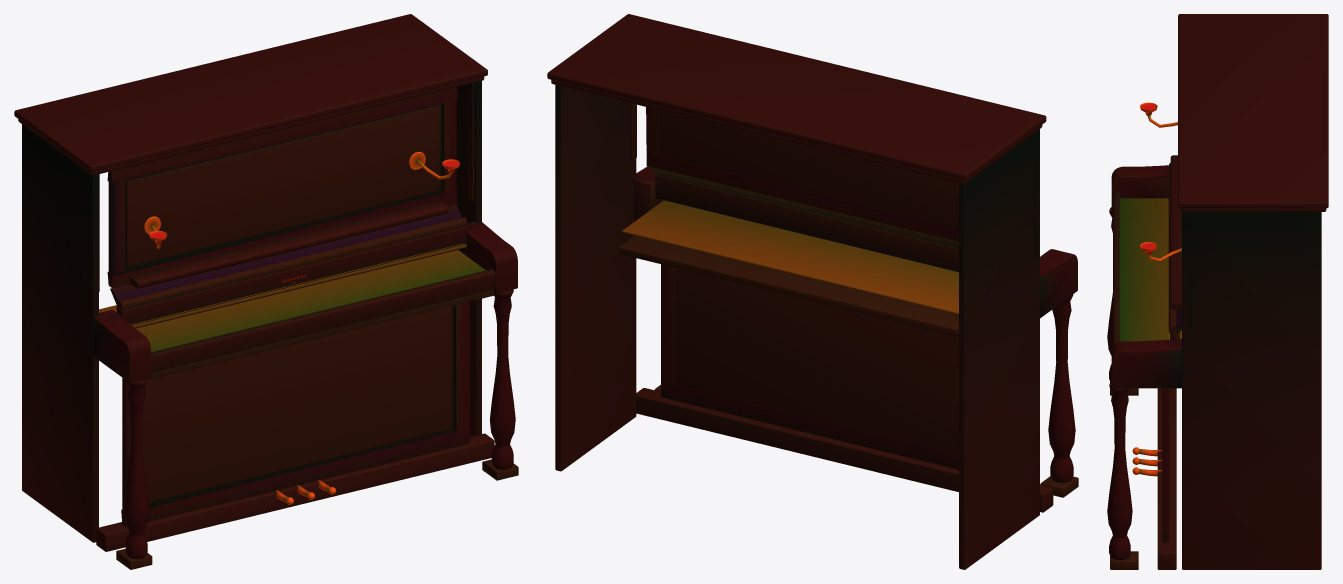
The model's file is piano_case.glb.
3 renders of one model, left to right at view 1: azimuth 30°, elevation 25°; view 2: azimuth 150°, elevation 25°; view 3: azimuth 270°, elevation 25°, orthographic. The views are drawn at different scales.
Visible parts, largest first — view 1: Body, UpperPanel, Nameboard, Keybed, KeySlip, LegL, LegR, ArmL, ArmR, Brass; view 2: Body, Keybed, UpperPanel, Nameboard, LegL, ArmL, ArmR; view 3: Body, Keybed, ArmR, LegR, ArmL, UpperPanel, Brass, KeySlip, Nameboard, LegL.
Boxes of the visible parts, x1,y1,x2,y2 form: Body: (14,14,494,551); UpperPanel: (107,87,457,288); Nameboard: (110,204,466,328); Keybed: (99,250,493,379); KeySlip: (151,269,495,372); LegL: (116,379,152,569); LegR: (482,289,518,480); ArmL: (93,310,151,382); ArmR: (458,221,517,293); Brass: (144,151,460,504); Body: (547,14,1053,569); Keybed: (618,200,958,336); UpperPanel: (646,107,958,242); Nameboard: (648,166,958,272); LegL: (1040,294,1078,497); ArmL: (1040,249,1077,318); ArmR: (634,166,663,221); Body: (1157,14,1328,569); Keybed: (1120,198,1181,341); ArmR: (1111,339,1182,388); LegR: (1107,381,1138,569); ArmL: (1111,165,1168,213); UpperPanel: (1170,155,1181,309); Brass: (1132,102,1181,476); KeySlip: (1113,192,1119,346); Nameboard: (1168,163,1181,339); LegL: (1107,207,1138,395).
Bounding box in the file's own units: 1.41 × 1.29 × 0.6985.
